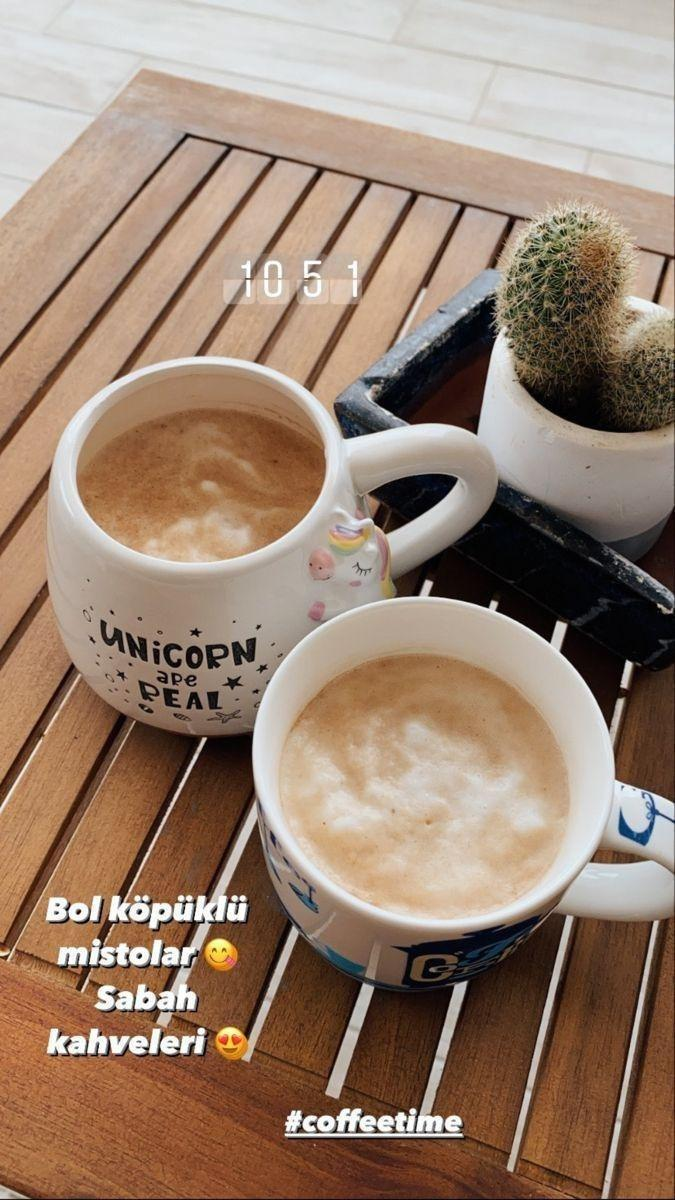cup-handle: (37, 356, 500, 738), (245, 594, 673, 990)
